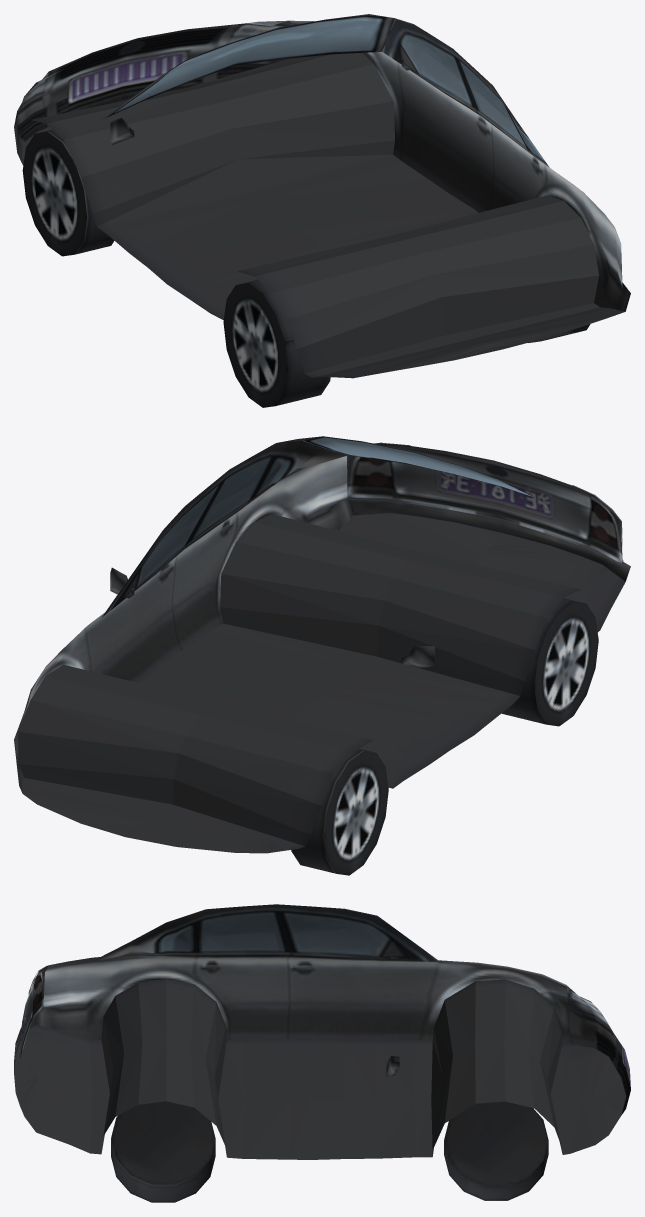
3 views of the same model, one above another, from view 1: azimuth 30°, elevation 25°; view 2: azimuth 150°, elevation 25°; view 3: azimuth 270°, elevation 25° (orthographic). The views are drawn at different scales.
Parts seen in each view (by area): view 1: passat, tyre1, tyre3; view 2: passat, tyre3, tyre1; view 3: passat, tyre2, tyre4.
Part boxes in pixels (left/top/right/bottom): passat: left=14, top=14, right=630, bottom=378; tyre1: left=223, top=280, right=330, bottom=407; tyre3: left=22, top=129, right=114, bottom=256; passat: left=14, top=436, right=630, bottom=853; tyre3: left=291, top=748, right=388, bottom=875; tyre1: left=501, top=598, right=598, bottom=726; passat: left=14, top=904, right=630, bottom=1159; tyre2: left=111, top=1101, right=215, bottom=1202; tyre4: left=444, top=1101, right=548, bottom=1200.
Size of the model in its own units: 0.6202 by 0.4723 by 1.26.
Materials: 1 (1 with a texture image).
